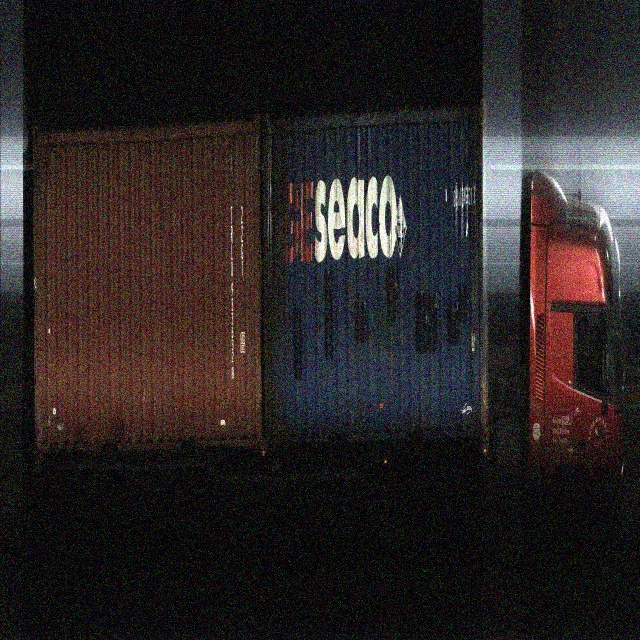Rusty: (274, 129, 282, 370), (481, 127, 487, 245), (481, 336, 489, 418), (36, 364, 42, 447), (317, 279, 322, 354), (348, 272, 353, 334), (390, 320, 394, 388), (409, 225, 416, 262), (367, 321, 377, 344), (338, 135, 343, 172), (423, 399, 428, 430)
